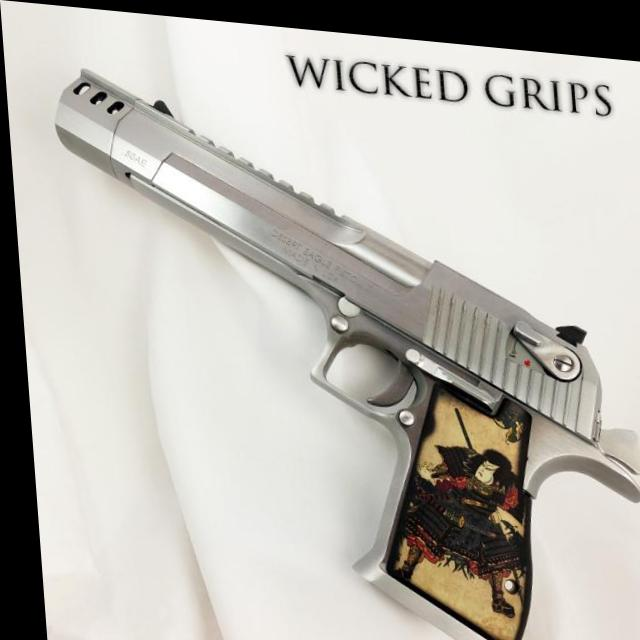handgun: (46, 57, 640, 640)
